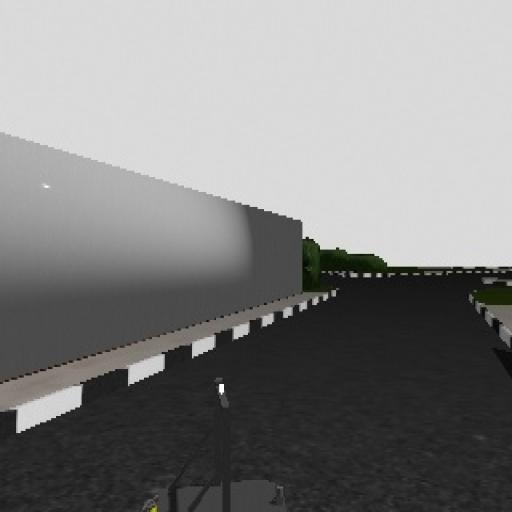huskya200: (125, 369, 291, 512)
